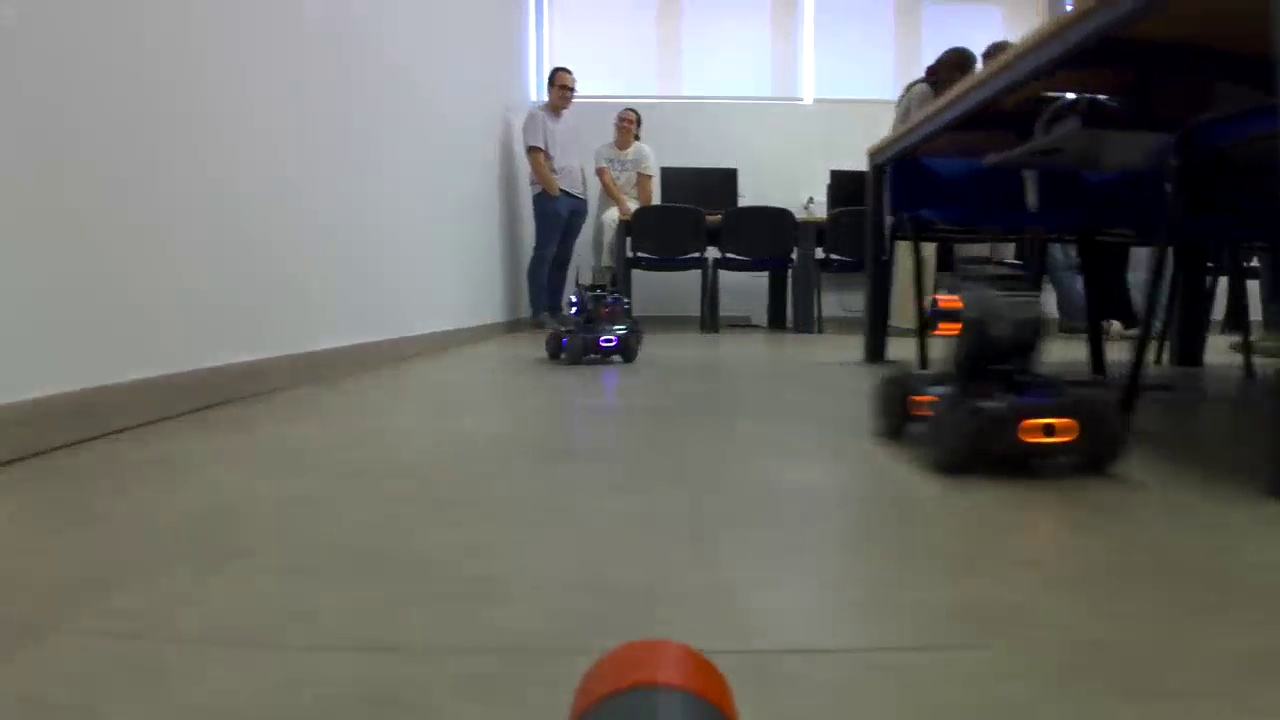robot: (885, 280, 1113, 487), (563, 282, 635, 365)
